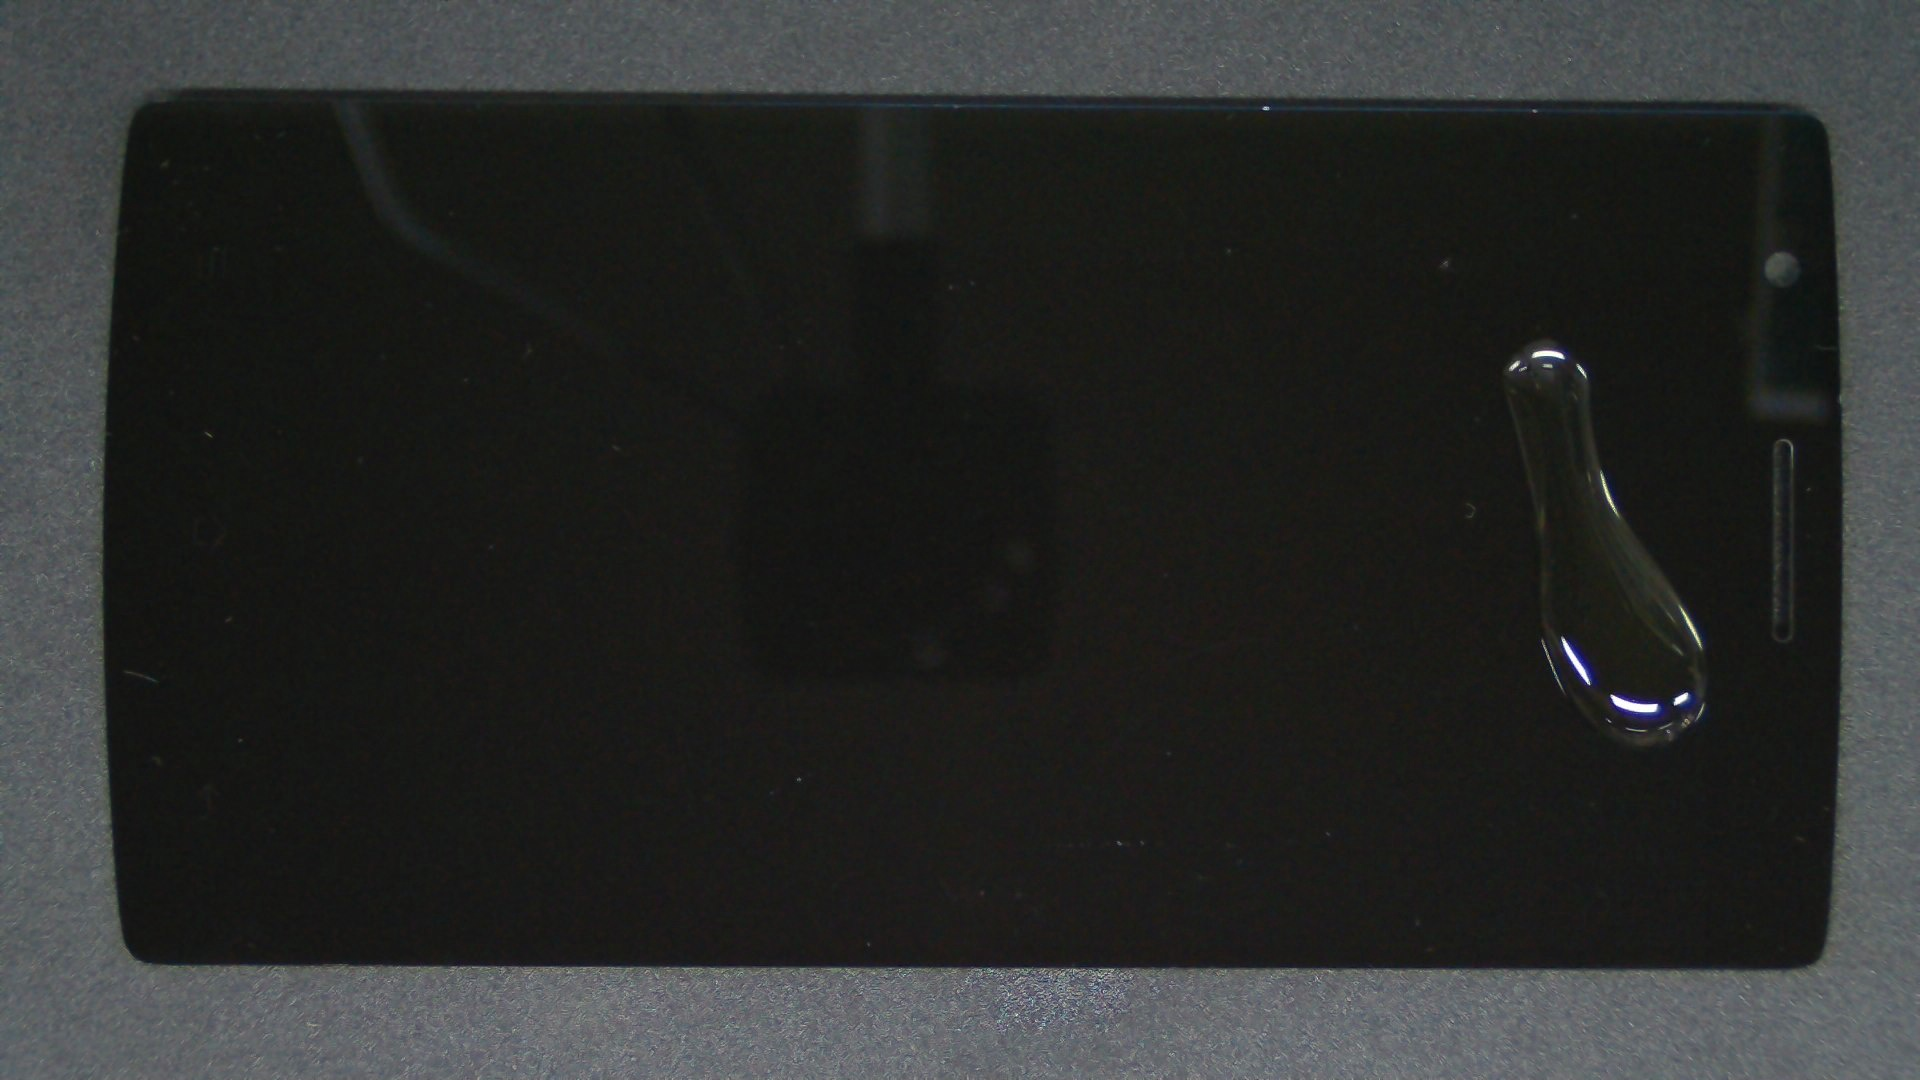oil: (774, 167, 1920, 506)
